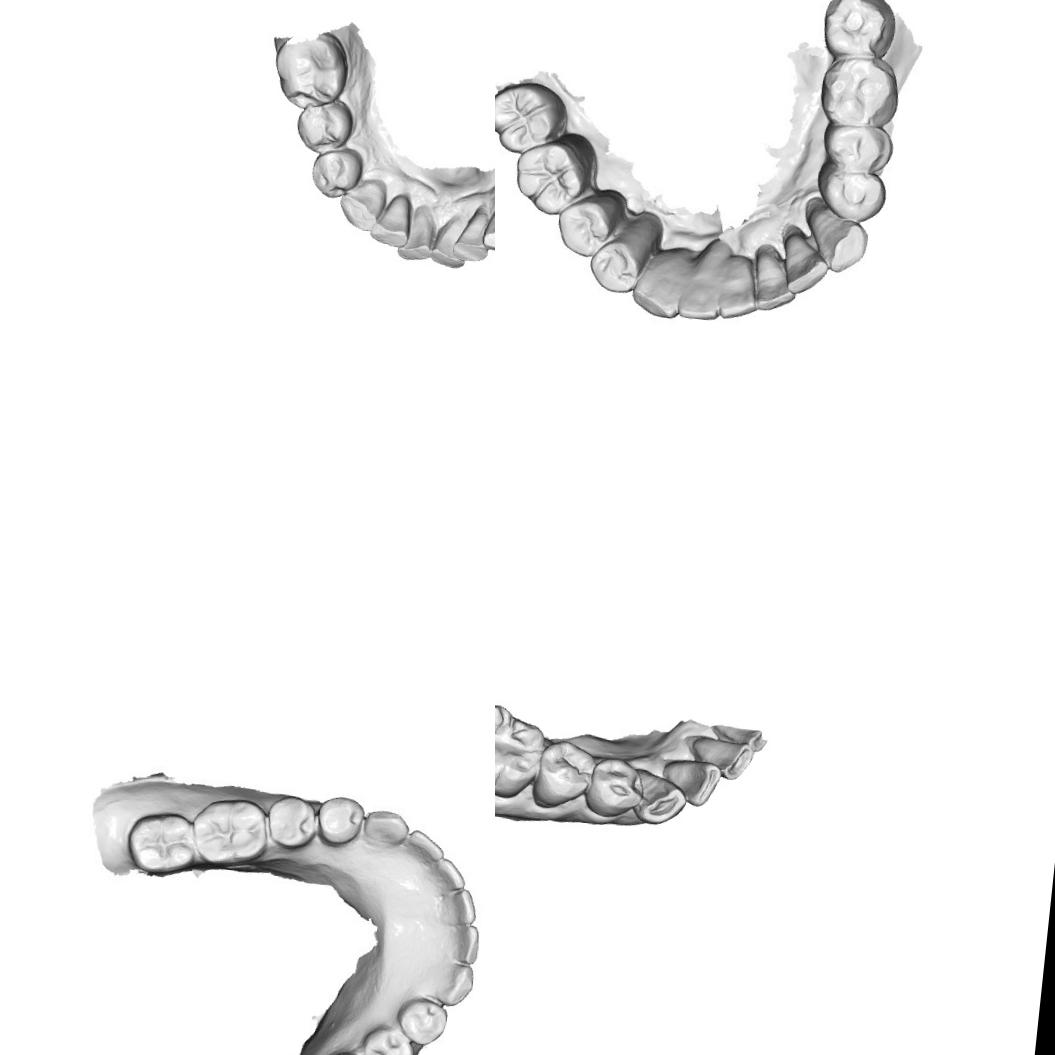canine: (801, 195, 874, 272), (628, 244, 684, 318), (630, 766, 689, 827), (336, 175, 391, 236), (360, 806, 412, 852), (433, 959, 474, 1004), (480, 191, 495, 253)
incisor: (672, 235, 734, 326), (778, 226, 830, 294), (657, 757, 723, 810), (712, 248, 760, 318), (752, 244, 800, 312), (688, 736, 756, 784), (367, 190, 415, 250), (450, 202, 495, 264), (396, 202, 440, 265), (429, 210, 472, 272), (429, 887, 480, 930), (436, 923, 482, 966), (401, 824, 444, 868), (432, 856, 466, 901)
molar: (510, 126, 604, 219), (269, 28, 350, 112), (812, 52, 898, 131), (495, 76, 570, 160), (194, 794, 270, 871), (495, 698, 546, 804), (817, 0, 898, 62), (132, 812, 196, 871)
premolar: (816, 116, 898, 176), (533, 736, 596, 814), (813, 164, 892, 222), (582, 754, 644, 822), (307, 142, 369, 205), (294, 96, 358, 154), (313, 790, 374, 850), (556, 199, 613, 257), (586, 239, 644, 293), (266, 798, 318, 852), (397, 993, 450, 1044), (359, 1023, 410, 1055)
